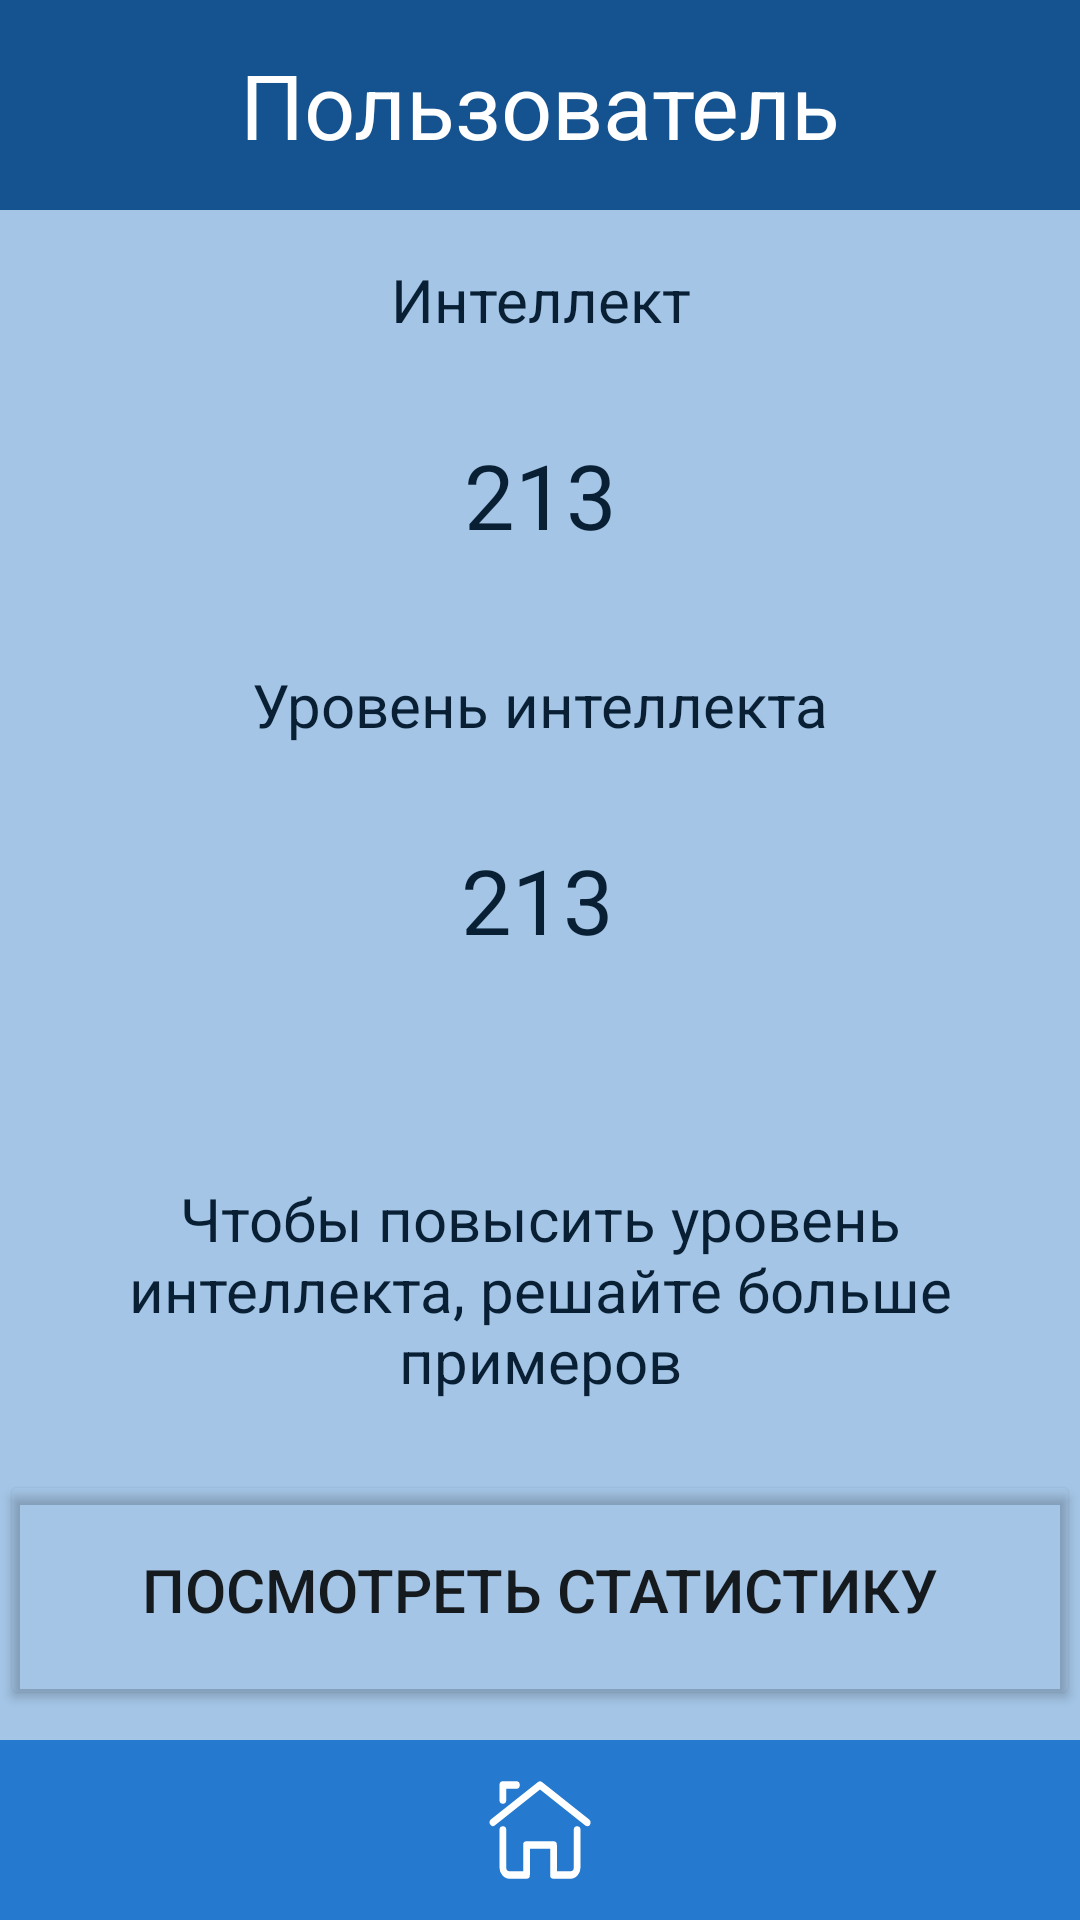

Screen size 1080px x 1920px. Icon name, then its box in pixels as {"x1": x1, "y1": y1, "x2": x2, "y2": y2}:
home: {"x1": 489, "y1": 1781, "x2": 591, "y2": 1879}
